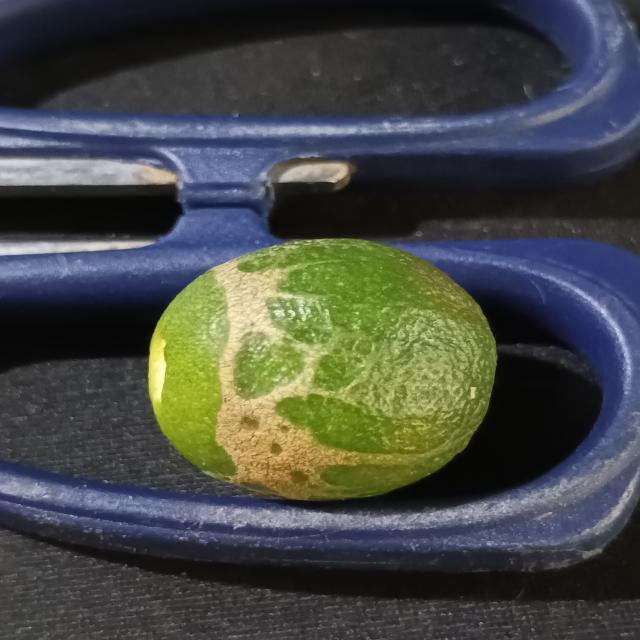thrips: (143, 238, 500, 504)
